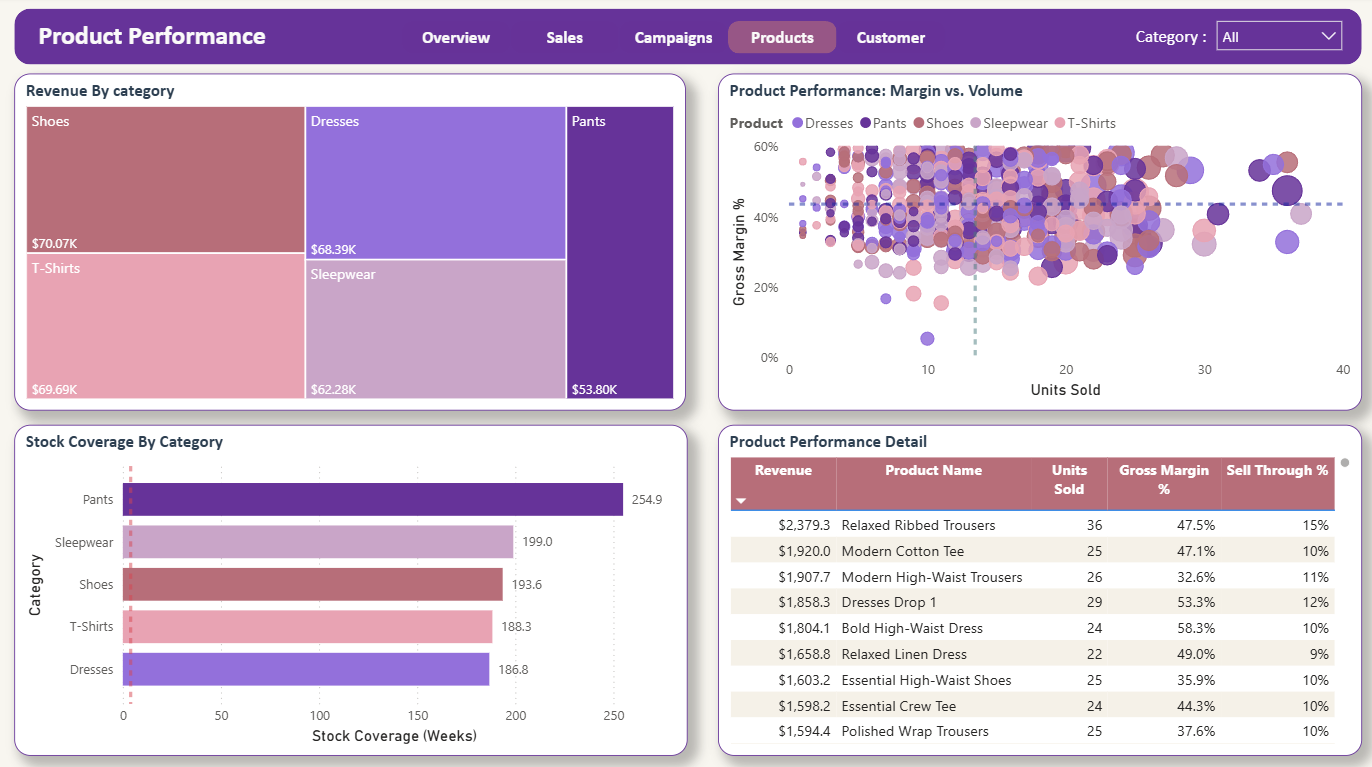

What the dashboard file says about the page in this screenshot:
{"tool":"powerbi","page":{"name":"Product Performance","canvas":[1280,720],"ordinal":3},"visuals":[{"type":"shape","box":[15.1,11.6,1253.5,52.3],"z":0},{"type":"actionButton","box":[375.6,23.3,101.2,30.2],"z":1000},{"type":"actionButton","box":[476.7,23.3,101.2,30.2],"z":2000},{"type":"actionButton","box":[577.9,23.3,101.2,30.2],"z":3000},{"type":"actionButton","box":[679.1,23.3,101.2,30.2],"z":4000},{"type":"actionButton","box":[780.2,23.3,101.2,30.2],"z":5000},{"type":"textbox","box":[32.6,16.3,265.1,44.2],"z":6000},{"type":"slicer","title":"Category","fields":{"Values":["products.category"]},"box":[1123.3,12.8,137.2,48.8],"z":7000},{"type":"treemap","title":"Revenue By category","fields":{"Group":["products.category"],"Values":["_Measures.Total Revenue"]},"box":[15.1,72.1,624.4,314],"z":8000},{"type":"scatterChart","title":"Product Performance: Margin vs. Volume","fields":{"X":["_Measures.Units Sold"],"Y":["_Measures.Gross Margin %"],"Size":["_Measures.Total Revenue"],"Category":["products.product_name"],"Series":["products.category"]},"box":[669.8,72.1,598.8,314],"z":9000},{"type":"textbox","box":[1050,23.3,82.6,31.4],"z":10000},{"type":"tableEx","title":"Product Performance Detail","fields":{"Values":["_Measures.Total Revenue","products.product_name","_Measures.Units Sold","_Measures.Gross Margin %","_Measures.Sell Through %"]},"box":[669.8,398.8,598.8,308.1],"z":11000},{"type":"clusteredBarChart","title":"Stock Coverage By Category","fields":{"Category":["products.category"],"Y":["_Measures.Stock Coverage (Weeks)"]},"box":[15.1,398.8,626.7,308.1],"z":12000}]}

Visuals, with their boxes in screenshot pixels (x1, y1, x2, y2), scaled from the page's 1280x720 canvas onto the 1372x767 screenshot:
shape: region(16, 12, 1360, 68)
actionButton: region(403, 25, 511, 57)
actionButton: region(511, 25, 619, 57)
actionButton: region(619, 25, 728, 57)
actionButton: region(728, 25, 836, 57)
actionButton: region(836, 25, 945, 57)
textbox: region(35, 17, 319, 64)
"Category" slicer: region(1204, 14, 1351, 66)
"Revenue By category" treemap: region(16, 77, 685, 411)
"Product Performance: Margin vs. Volume" scatterChart: region(718, 77, 1360, 411)
textbox: region(1125, 25, 1214, 58)
"Product Performance Detail" tableEx: region(718, 425, 1360, 753)
"Stock Coverage By Category" clusteredBarChart: region(16, 425, 688, 753)
